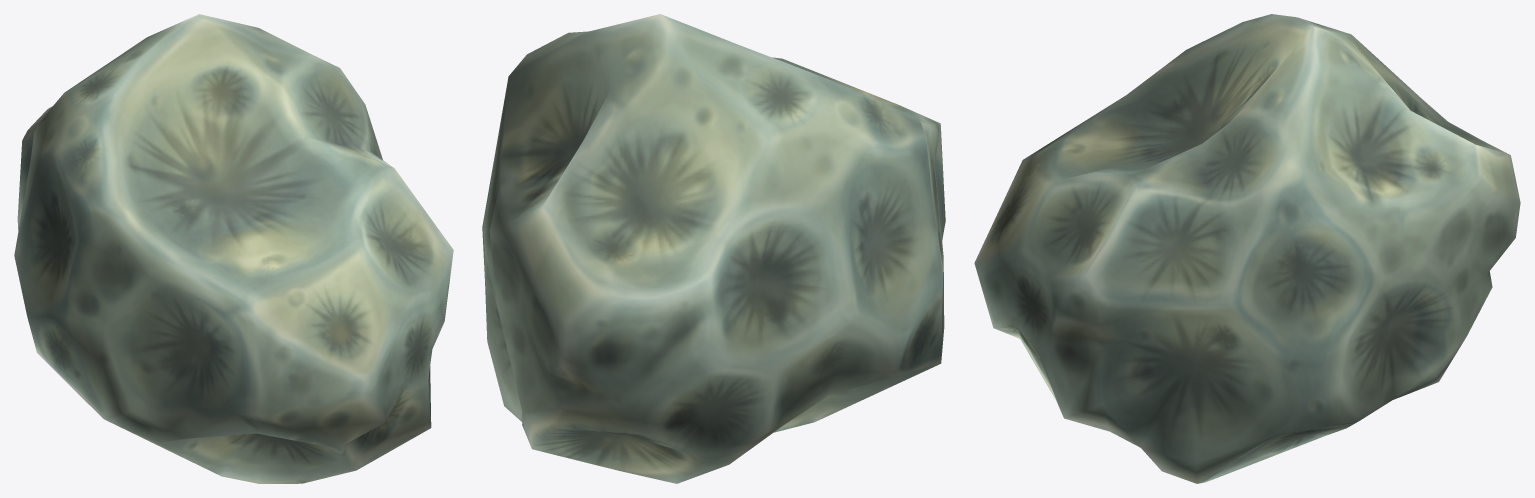
Rendered from asteroid_3_0.fbx.
The picture shows the model from 3 angles, left to right: view 1: azimuth 30°, elevation 25°; view 2: azimuth 150°, elevation 25°; view 3: azimuth 270°, elevation 25°; orthographic projection. The views are drawn at different scales.
Visible parts, largest first — view 1: A3_LOD0; view 2: A3_LOD0; view 3: A3_LOD0.
Boxes of the visible parts, x1=… form: A3_LOD0: x1=14, y1=14, x2=453, y2=483; A3_LOD0: x1=482, y1=14, x2=945, y2=483; A3_LOD0: x1=974, y1=14, x2=1520, y2=483.
Size of the model in its own units: 0.5853 by 0.6709 by 0.8062.
